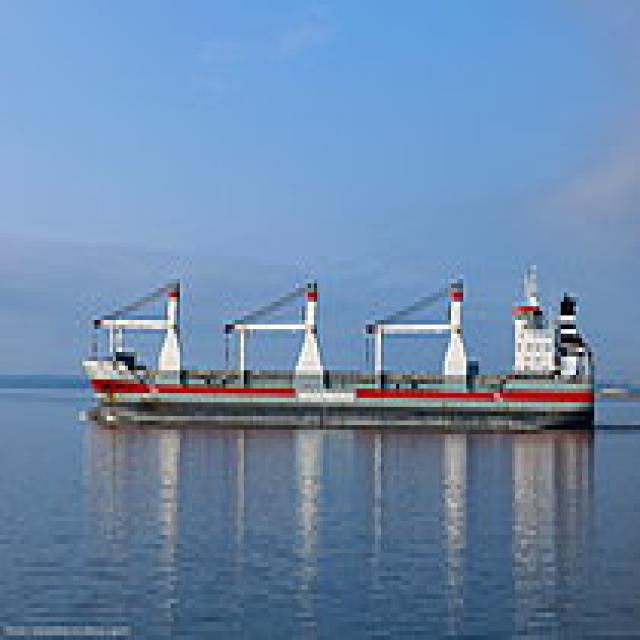Cargo: (73, 256, 597, 425)
